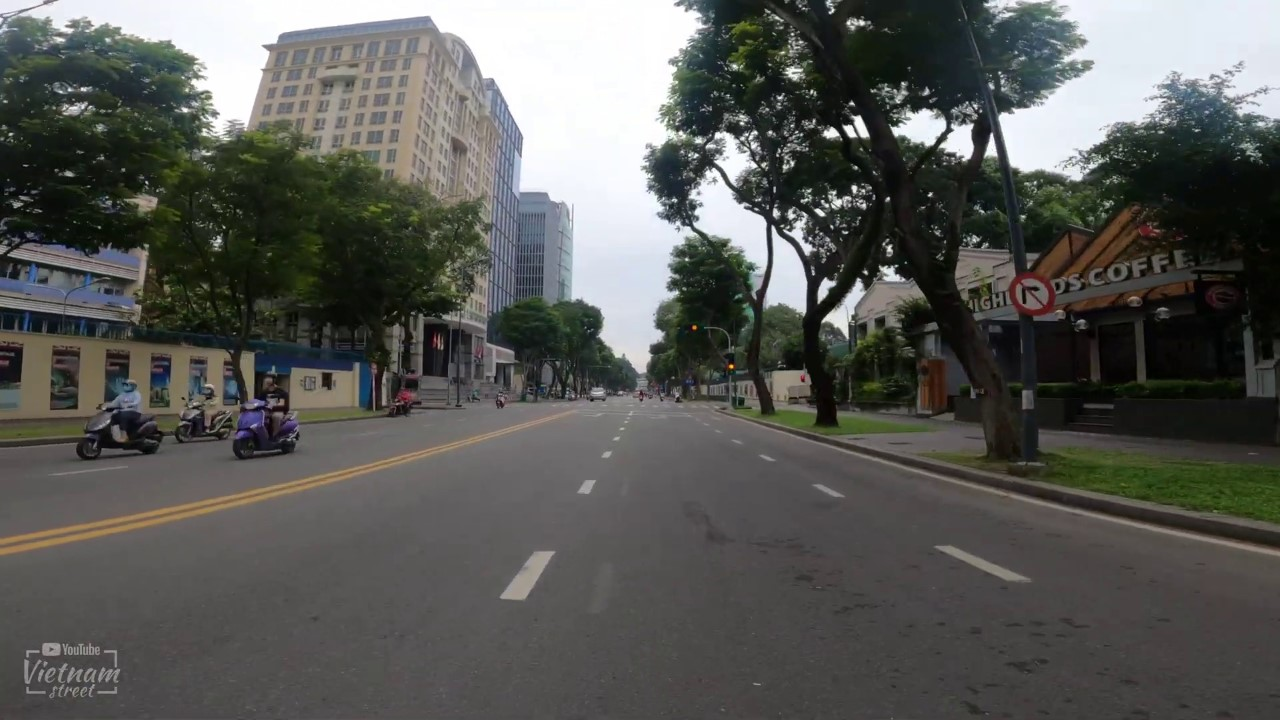cam_re_phai: (1008, 271, 1055, 316)
